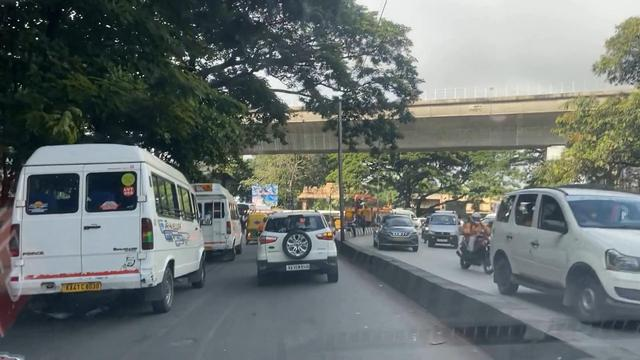HMV: (23, 144, 210, 315), (203, 179, 242, 259)
LMV: (254, 201, 343, 283)
